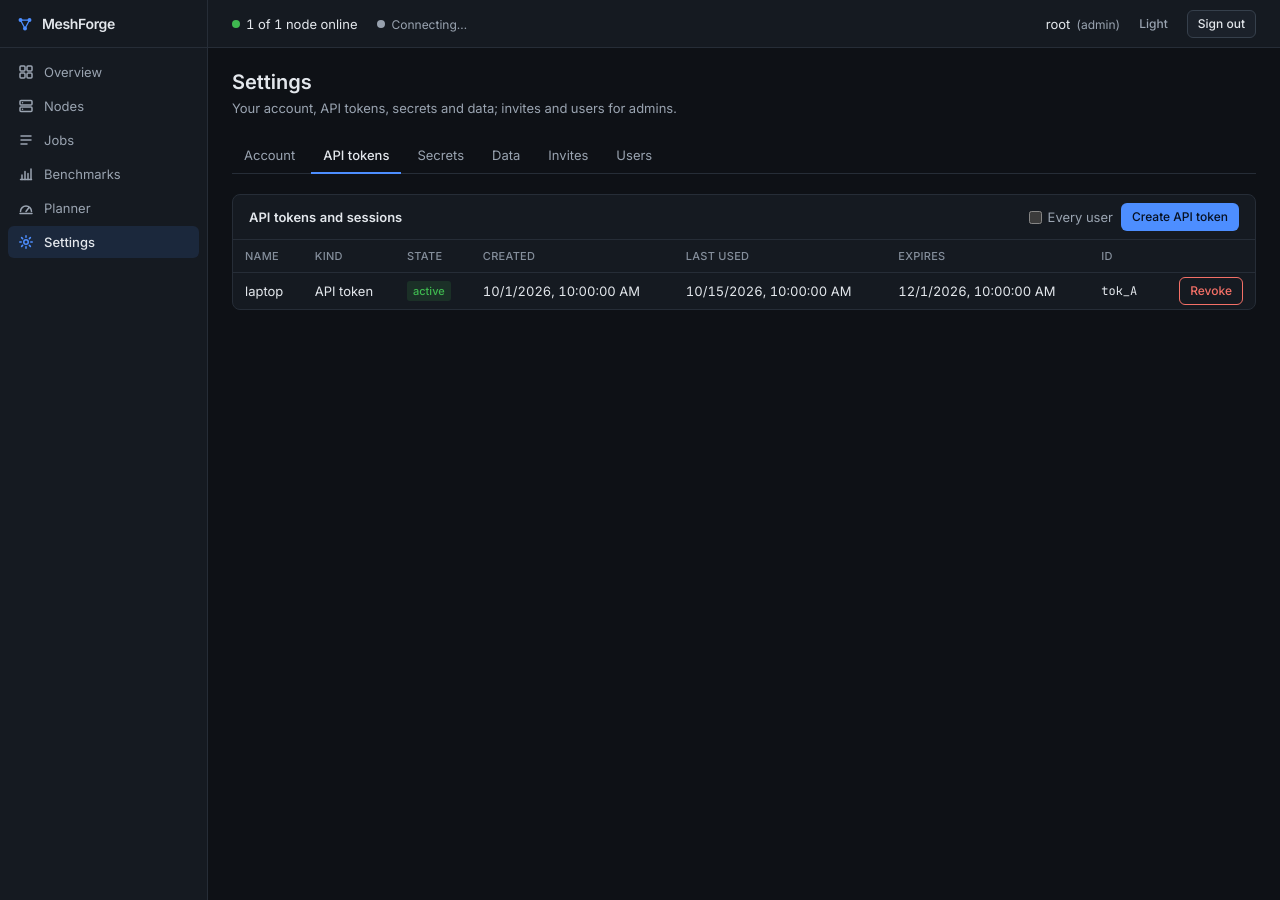
API tokens › a refused revoke is shown in the dialog, which stays open
Click the button with aria-label "Revoke laptop (tok_A)": x=1211, y=290 [1179,276,1243,304]
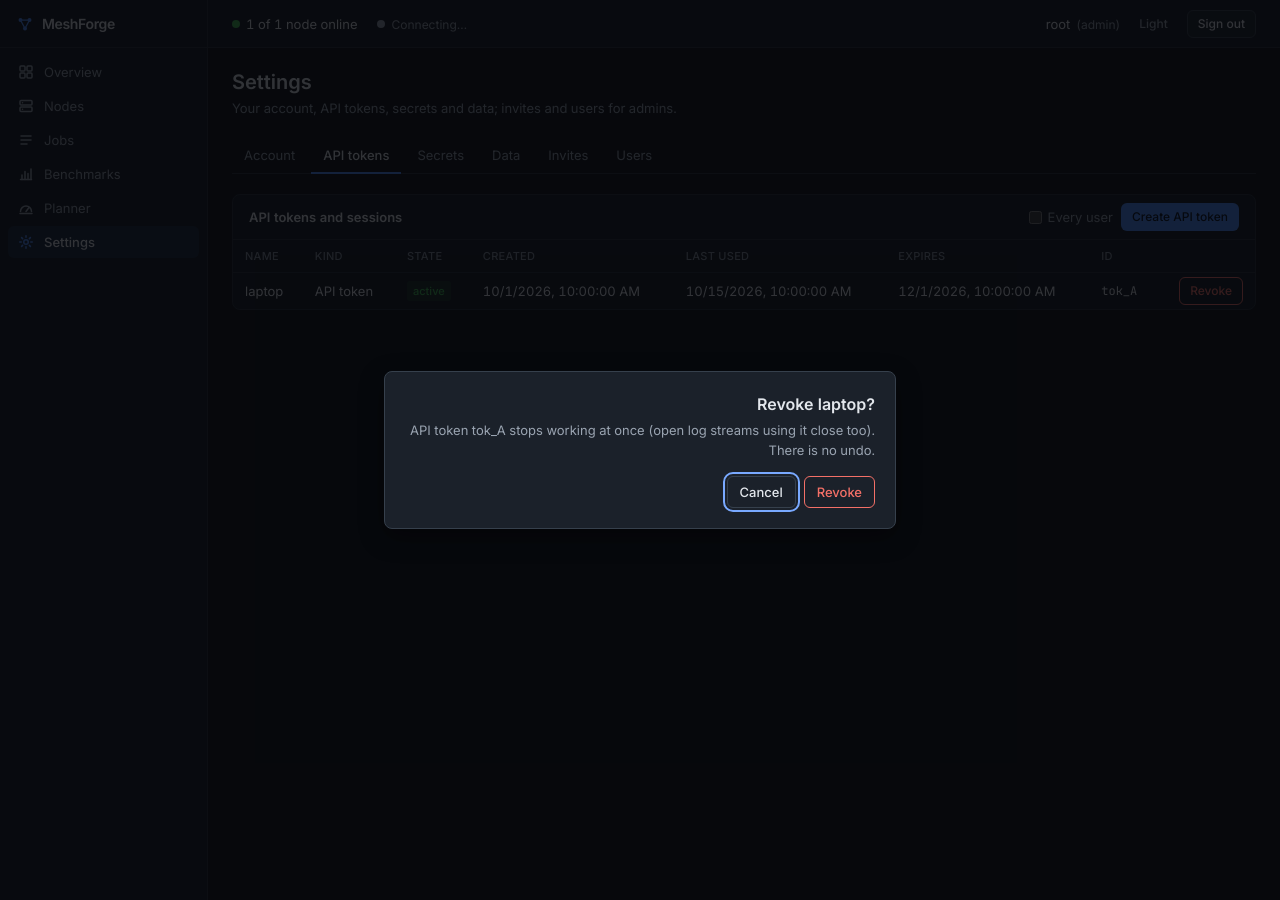
Click the button "Revoke" below "Revoke laptop?": x=839, y=492 [804,476,875,508]
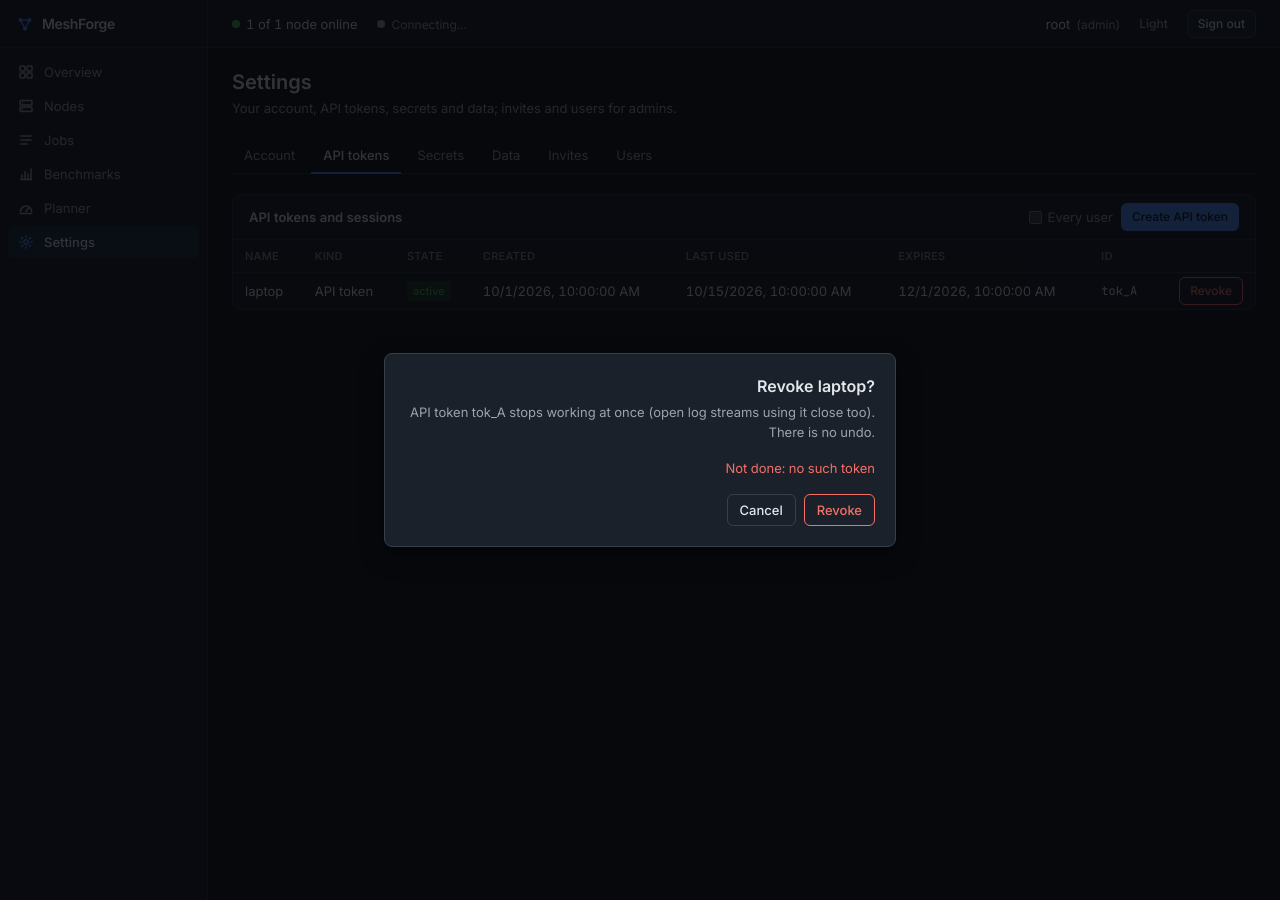
Expected: the message shows "no such token", [789,460,875,476]
